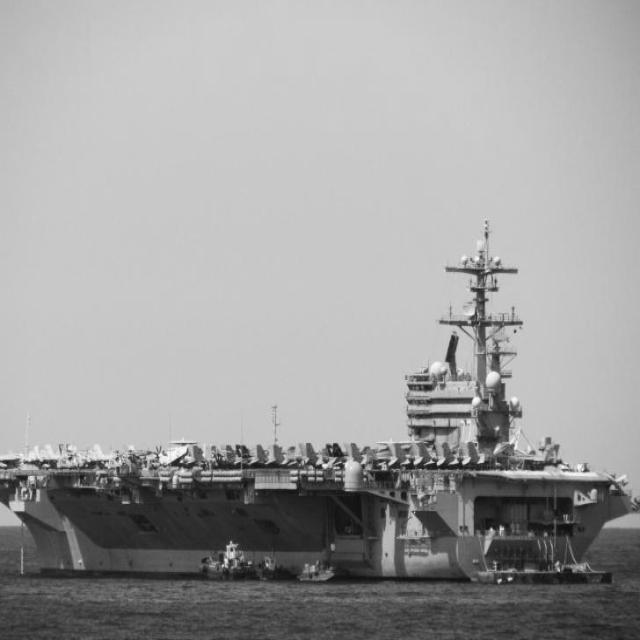Portanaves: (1, 226, 640, 594)
